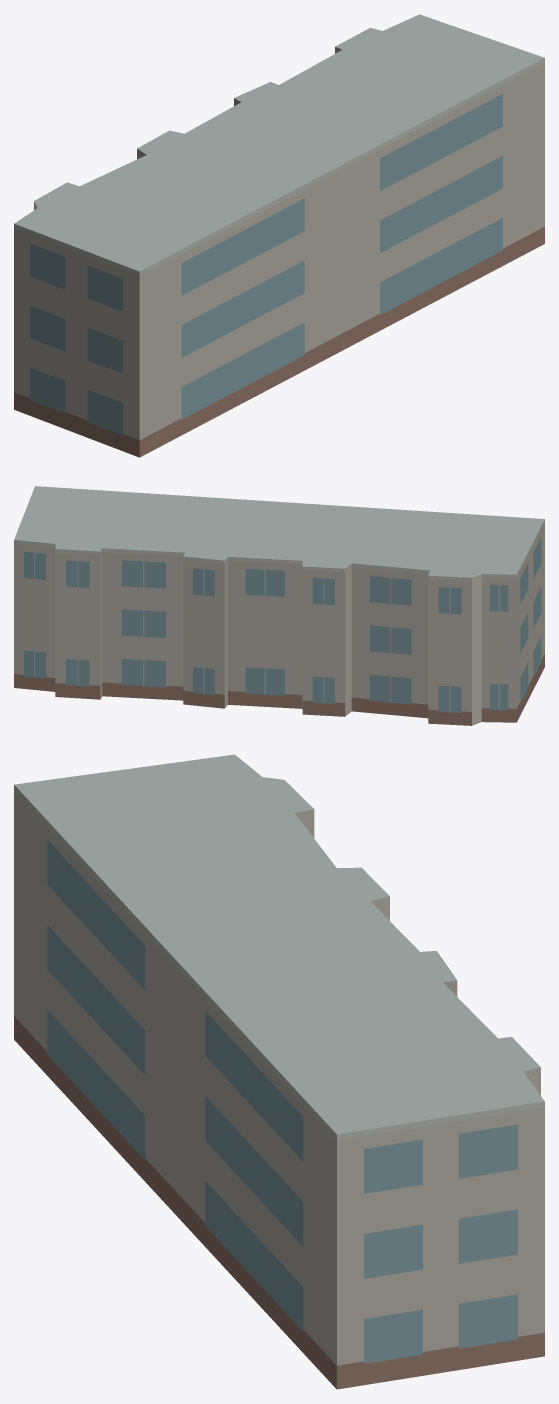
File: survey-upis-32906461.glb
3 views of the same model, one above another, from view 1: azimuth 30°, elevation 25°; view 2: azimuth 150°, elevation 25°; view 3: azimuth 270°, elevation 25° (orthographic). The views are drawn at different scales.
Parts seen in each view (by area): view 1: survey-upis-32906461.tmp; view 2: survey-upis-32906461.tmp; view 3: survey-upis-32906461.tmp.
Part boxes in pixels (left/top/right/bottom): survey-upis-32906461.tmp: left=14, top=14, right=544, bottom=457; survey-upis-32906461.tmp: left=14, top=486, right=544, bottom=725; survey-upis-32906461.tmp: left=14, top=754, right=544, bottom=1389.
Size of the model in its own units: 32.6 by 10.2 by 19.25.
